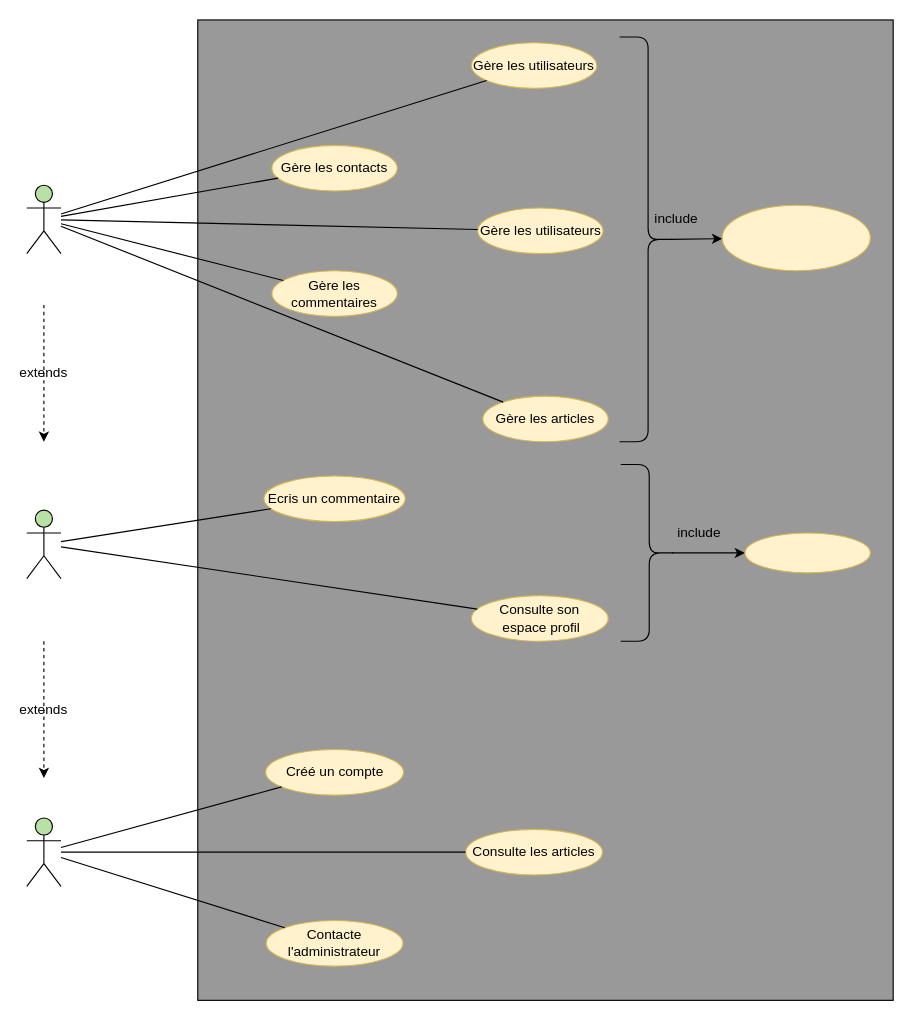
This 913x1020 diagram has some shape labels left out. The shapes that lost their labels are listed below. From the top down, each one's centre as x and y in pixels, then its label:
At (x=43, y=219): "Admin".
At (x=795, y=237): "Accède au panneau d'administration".
At (x=43, y=544): "User".
At (x=807, y=552): "Se connecte".
At (x=43, y=851): "Visitor".
